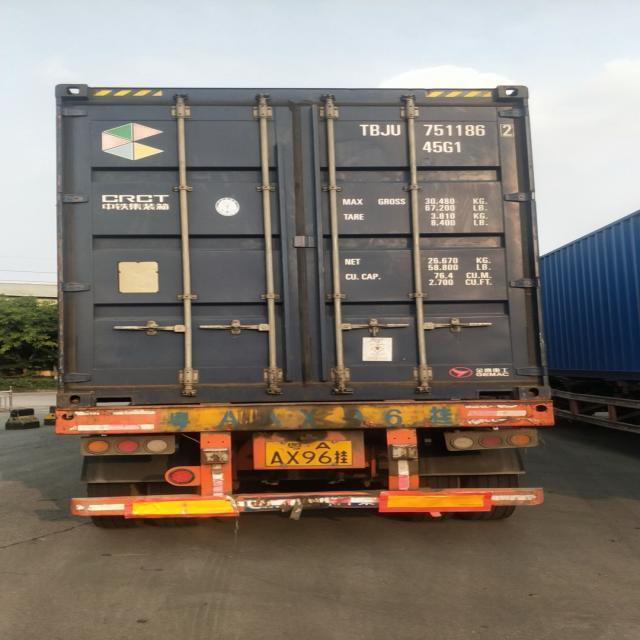ISO: (419, 134, 469, 150)
container_number: (361, 120, 517, 140)
